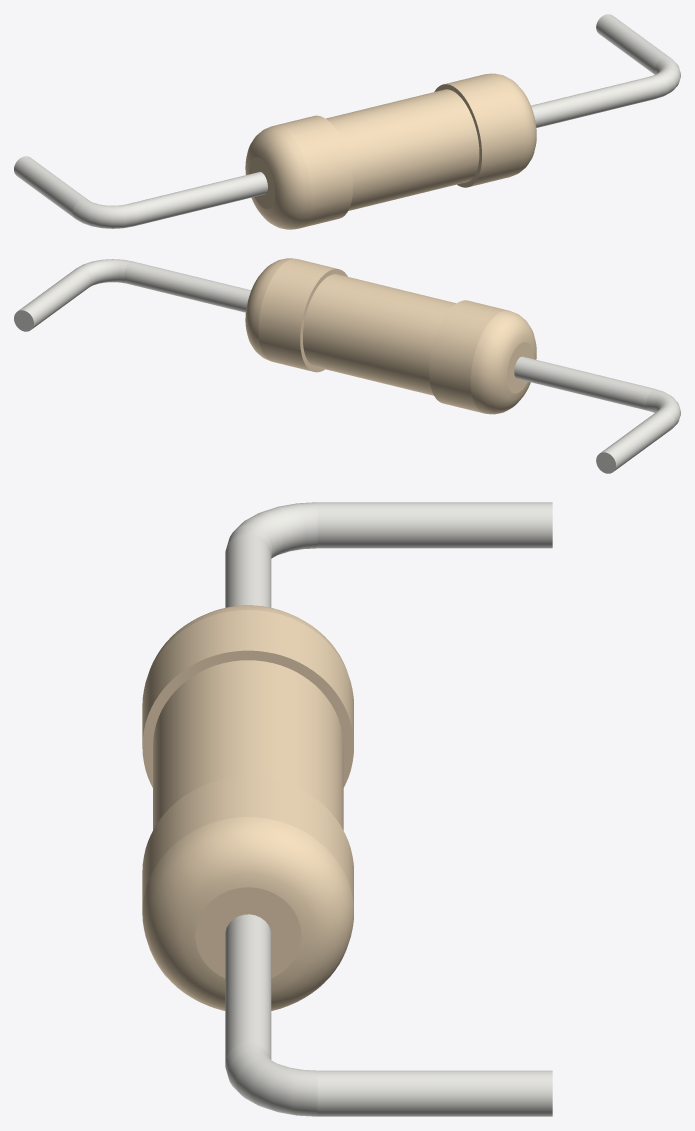
Rendered from R_Axial_DIN0309_L9.0mm_D3.2mm_P20.32mm_Horizontal.glb.
The picture shows the model from 3 angles, top to bottom: view 1: azimuth 30°, elevation 25°; view 2: azimuth 150°, elevation 25°; view 3: azimuth 270°, elevation 25°; orthographic projection. The views are drawn at different scales.
Visible parts, largest first — view 1: Shape_IndexedFaceSet.004, Shape_IndexedFaceSet.008, Shape_IndexedFaceSet, Shape_IndexedFaceSet.001, Shape_IndexedFaceSet.005, Shape_IndexedFaceSet.013, Shape_IndexedFaceSet.009, Shape_IndexedFaceSet.015, Shape_IndexedFaceSet.007, Shape_IndexedFaceSet.010, Shape_IndexedFaceSet.014, Shape_IndexedFaceSet.003 (+1 smaller); view 2: Shape_IndexedFaceSet.004, Shape_IndexedFaceSet.008, Shape_IndexedFaceSet, Shape_IndexedFaceSet.001, Shape_IndexedFaceSet.005, Shape_IndexedFaceSet.013, Shape_IndexedFaceSet.015, Shape_IndexedFaceSet.009, Shape_IndexedFaceSet.010, Shape_IndexedFaceSet.014, Shape_IndexedFaceSet.007, Shape_IndexedFaceSet.003 (+3 smaller); view 3: Shape_IndexedFaceSet.010, Shape_IndexedFaceSet.004, Shape_IndexedFaceSet.009, Shape_IndexedFaceSet.015, Shape_IndexedFaceSet.008, Shape_IndexedFaceSet, Shape_IndexedFaceSet.013, Shape_IndexedFaceSet.012, Shape_IndexedFaceSet.014, Shape_IndexedFaceSet.002, Shape_IndexedFaceSet.005, Shape_IndexedFaceSet.007 (+1 smaller).
Boxes of the visible parts, x1=… form: Shape_IndexedFaceSet.004: x1=326, y1=89, x2=479, y2=210; Shape_IndexedFaceSet.008: x1=444, y1=74, x2=523, y2=186; Shape_IndexedFaceSet: x1=275, y1=115, x2=352, y2=228; Shape_IndexedFaceSet.001: x1=245, y1=125, x2=311, y2=229; Shape_IndexedFaceSet.005: x1=129, y1=172, x2=267, y2=226; Shape_IndexedFaceSet.013: x1=531, y1=76, x2=657, y2=127; Shape_IndexedFaceSet.009: x1=14, y1=156, x2=87, y2=218; Shape_IndexedFaceSet.015: x1=596, y1=14, x2=670, y2=74; Shape_IndexedFaceSet.007: x1=72, y1=199, x2=135, y2=228; Shape_IndexedFaceSet.010: x1=489, y1=73, x2=536, y2=175; Shape_IndexedFaceSet.014: x1=650, y1=57, x2=680, y2=98; Shape_IndexedFaceSet.003: x1=249, y1=157, x2=275, y2=208; Shape_IndexedFaceSet.004: x1=303, y1=274, x2=456, y2=395; Shape_IndexedFaceSet.008: x1=258, y1=258, x2=337, y2=371; Shape_IndexedFaceSet: x1=429, y1=300, x2=508, y2=412; Shape_IndexedFaceSet.001: x1=470, y1=310, x2=536, y2=414; Shape_IndexedFaceSet.005: x1=514, y1=356, x2=653, y2=410; Shape_IndexedFaceSet.013: x1=124, y1=261, x2=250, y2=312; Shape_IndexedFaceSet.015: x1=18, y1=267, x2=92, y2=328; Shape_IndexedFaceSet.009: x1=601, y1=409, x2=674, y2=470; Shape_IndexedFaceSet.010: x1=245, y1=258, x2=293, y2=360; Shape_IndexedFaceSet.014: x1=78, y1=259, x2=131, y2=286; Shape_IndexedFaceSet.007: x1=646, y1=388, x2=680, y2=427; Shape_IndexedFaceSet.003: x1=507, y1=342, x2=533, y2=393; Shape_IndexedFaceSet.010: x1=142, y1=817, x2=353, y2=1010; Shape_IndexedFaceSet.004: x1=153, y1=660, x2=343, y2=830; Shape_IndexedFaceSet.009: x1=317, y1=502, x2=552, y2=548; Shape_IndexedFaceSet.015: x1=317, y1=1070, x2=552, y2=1116; Shape_IndexedFaceSet.008: x1=142, y1=776, x2=353, y2=909; Shape_IndexedFaceSet: x1=142, y1=610, x2=353, y2=743; Shape_IndexedFaceSet.013: x1=225, y1=914, x2=271, y2=1060; Shape_IndexedFaceSet.012: x1=195, y1=887, x2=301, y2=978; Shape_IndexedFaceSet.014: x1=225, y1=1043, x2=317, y2=1116; Shape_IndexedFaceSet.002: x1=142, y1=650, x2=353, y2=787; Shape_IndexedFaceSet.005: x1=225, y1=533, x2=271, y2=607; Shape_IndexedFaceSet.007: x1=227, y1=502, x2=317, y2=558.
Size of the model in its own units: 8.27 by 1.26 by 2.44.
